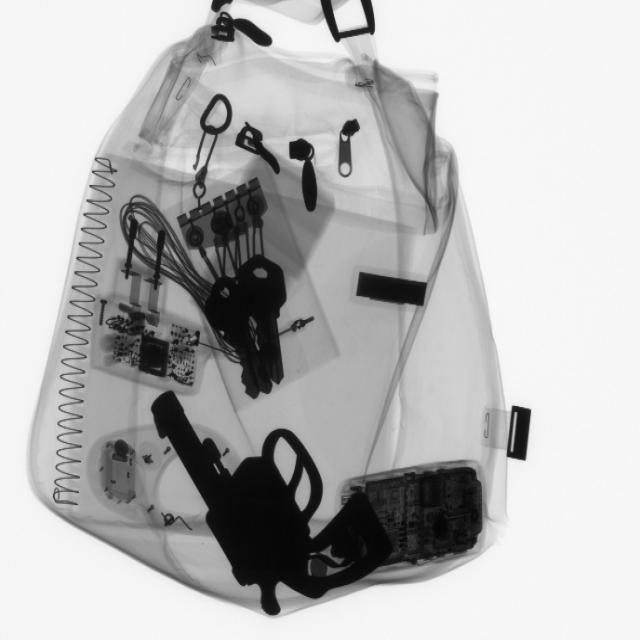GUN: (159, 384, 391, 619)
